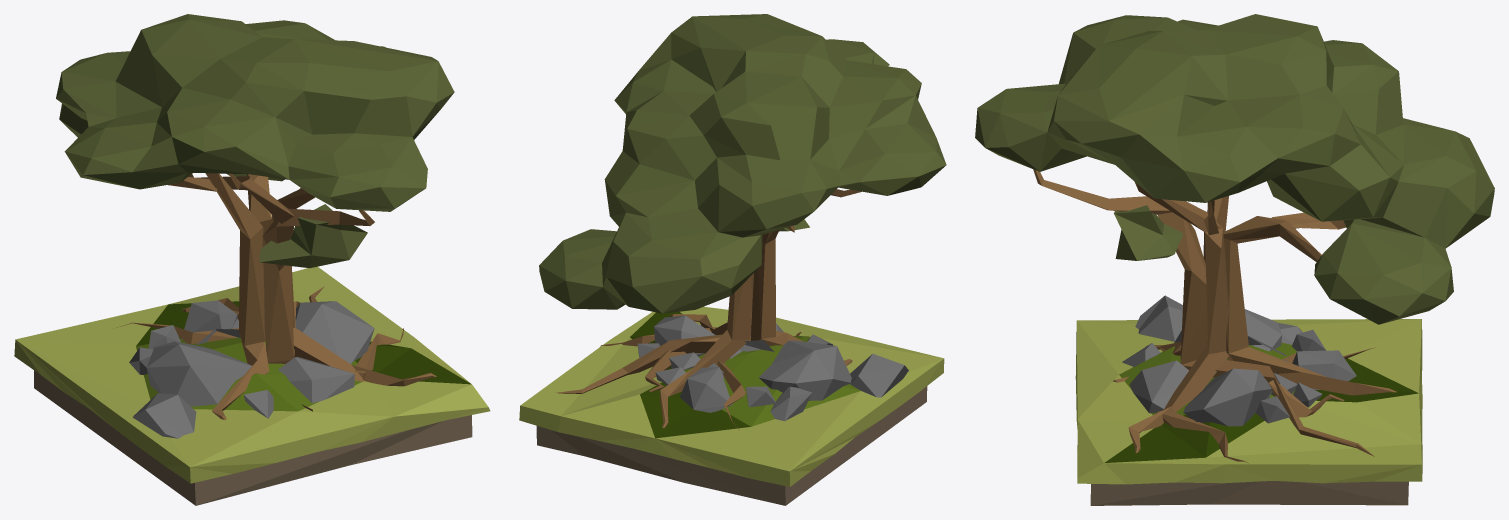
3 renders of one model, left to right at view 1: azimuth 30°, elevation 25°; view 2: azimuth 150°, elevation 25°; view 3: azimuth 270°, elevation 25°, orthographic. The views are drawn at different scales.
Parts seen in each view (by area): view 1: Mball.017_Mesh; view 2: Mball.017_Mesh; view 3: Mball.017_Mesh.
Part boxes in pixels (x1,y1,x2,y2): Mball.017_Mesh: (14,14,490,505); Mball.017_Mesh: (519,14,946,505); Mball.017_Mesh: (975,14,1494,505).
Size of the model in its own units: 4.74 by 4.99 by 6.02.
1 material, 1 textured.
